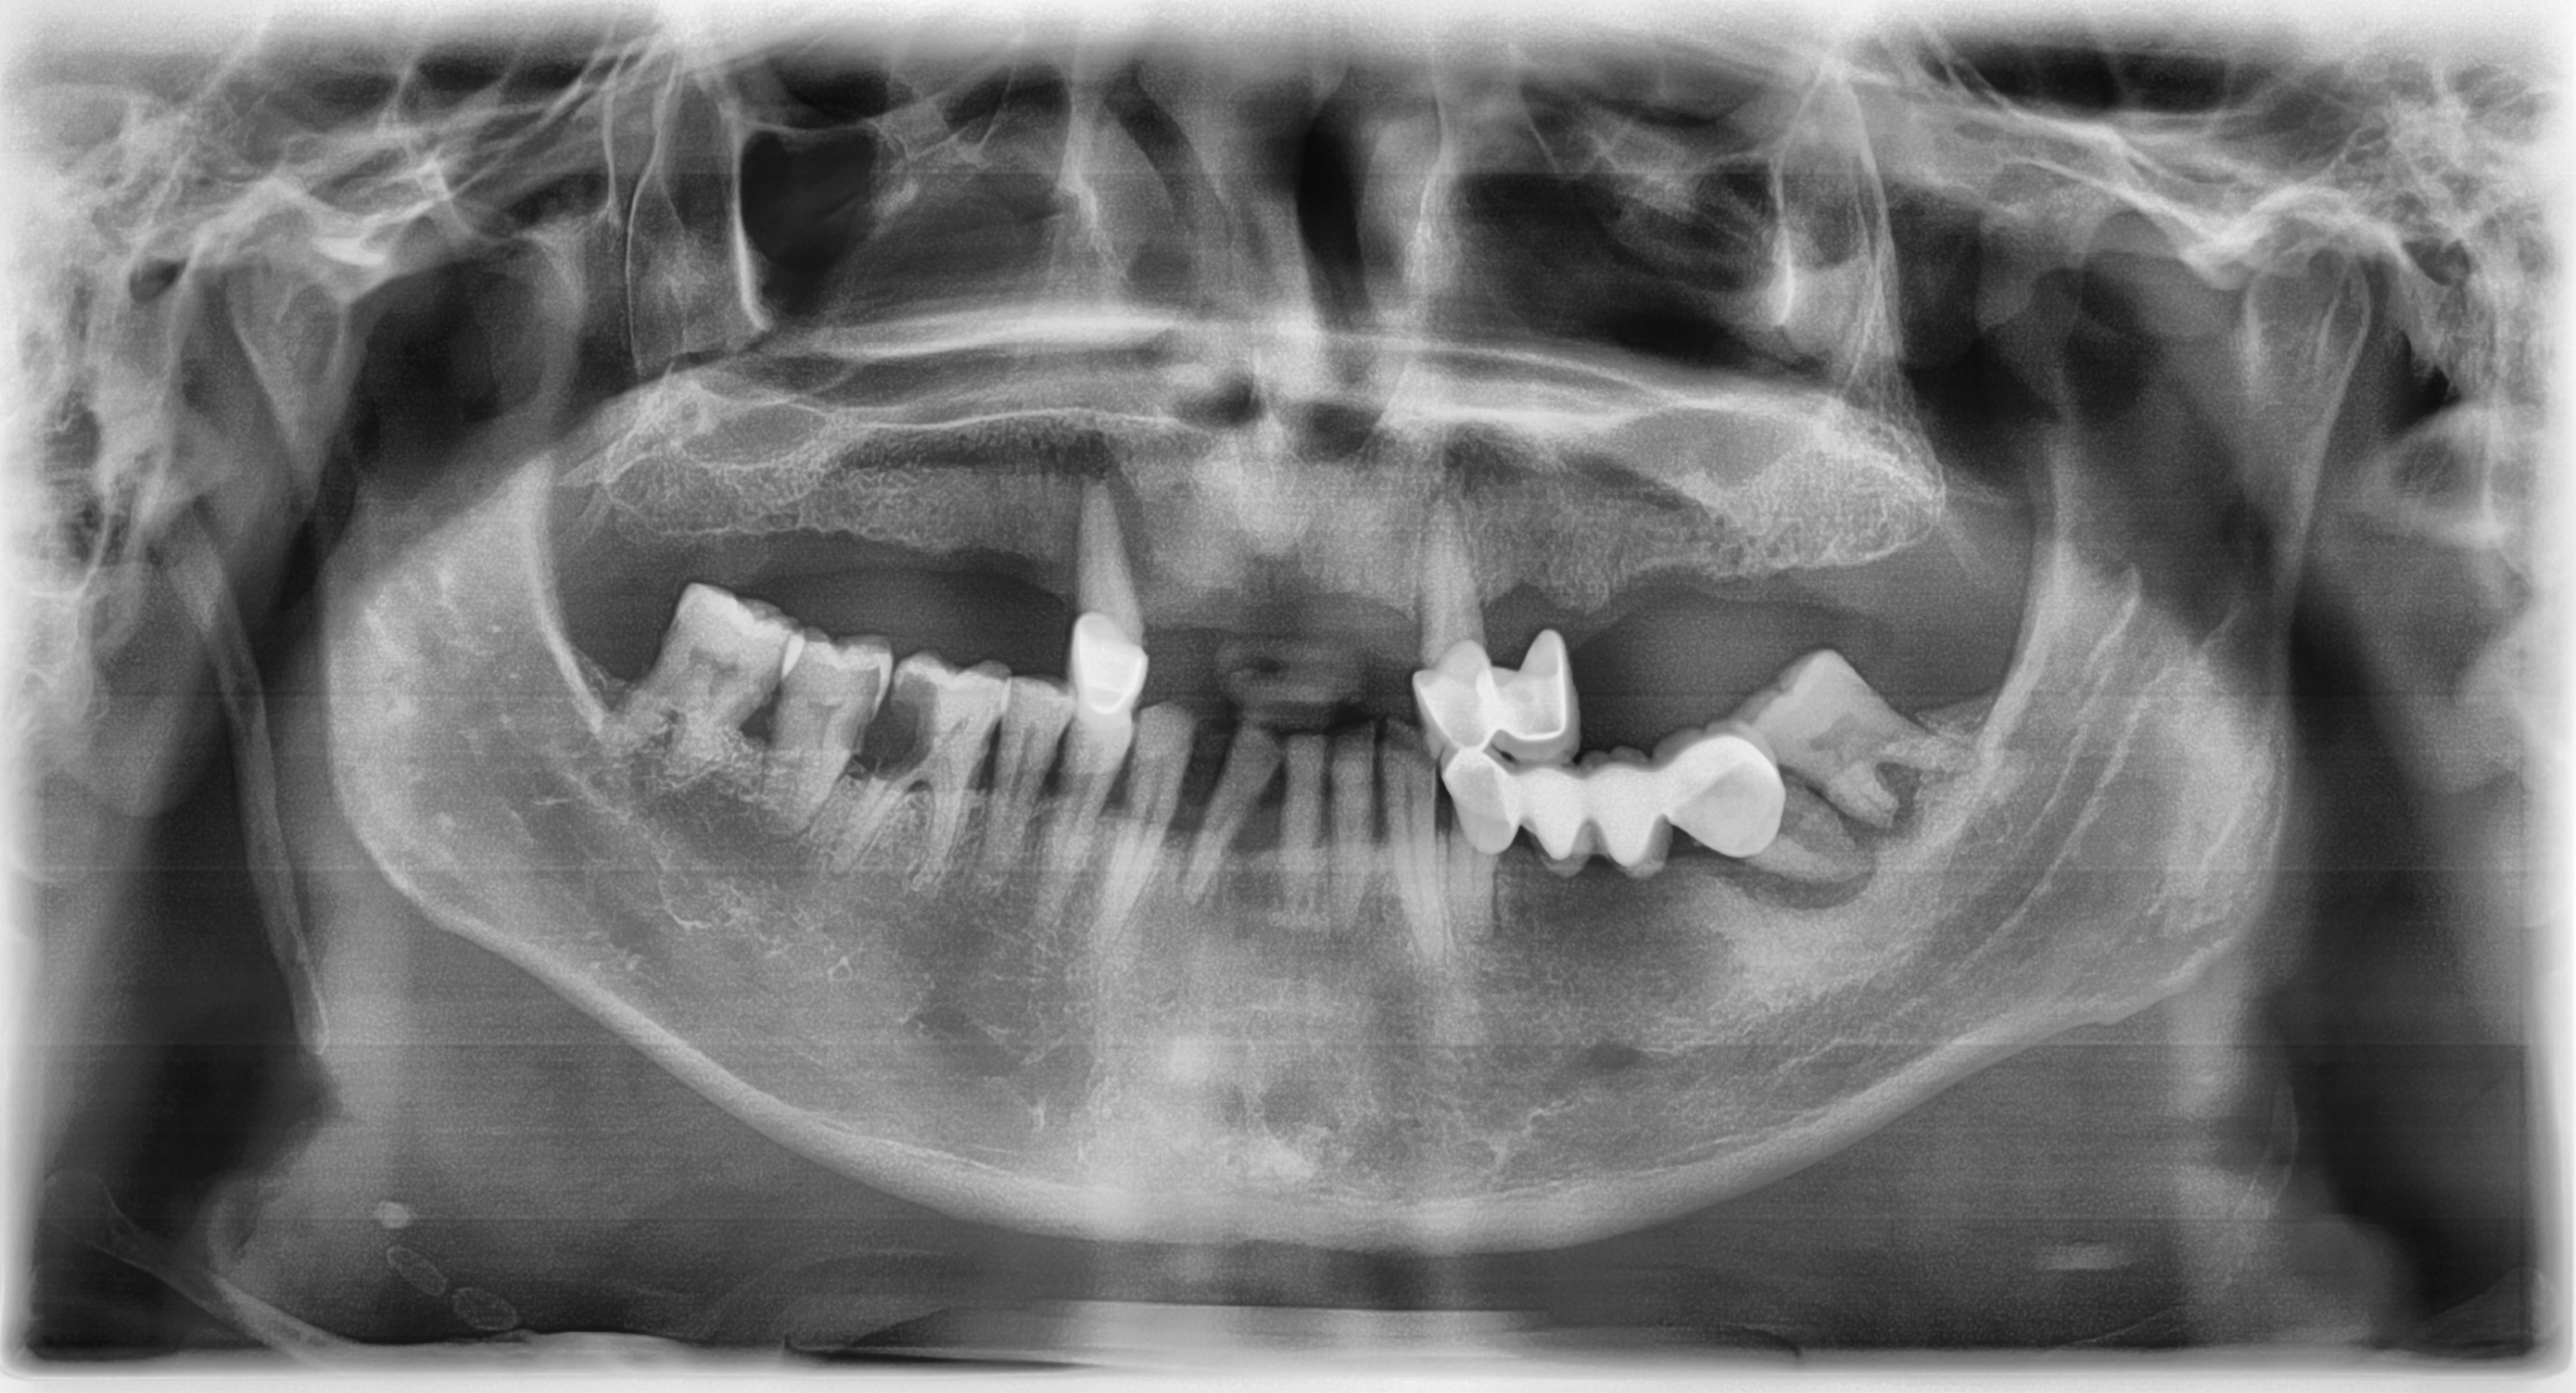caries: (818, 648, 1005, 815)
cordal: (580, 568, 801, 786)
diastema: (1161, 698, 1240, 908), (1254, 707, 1302, 918)
zona_dentula: (604, 417, 1082, 609), (1458, 468, 1960, 628), (1103, 489, 1446, 671)
